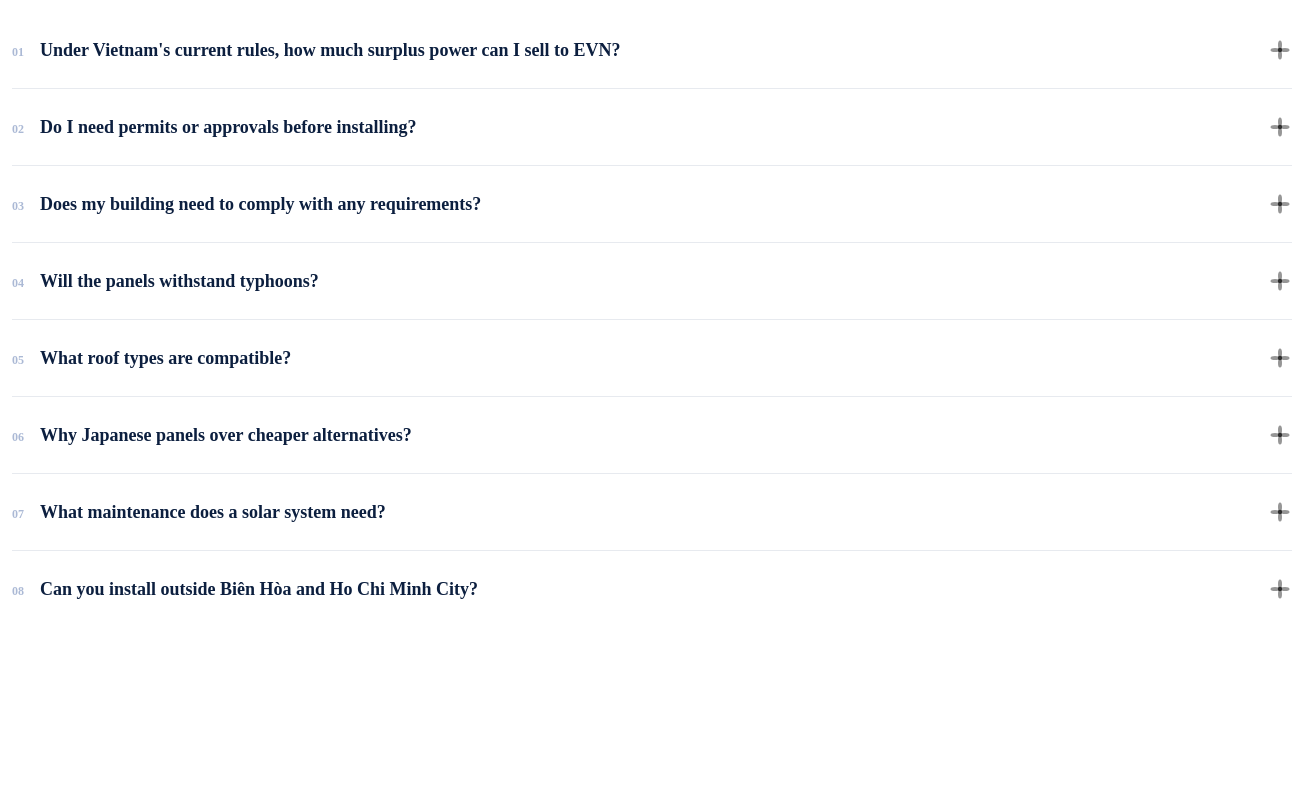
PricingFAQ › collapses the open question again on a second click
Click the 1st button at (330, 50), box [12, 12, 1292, 88]
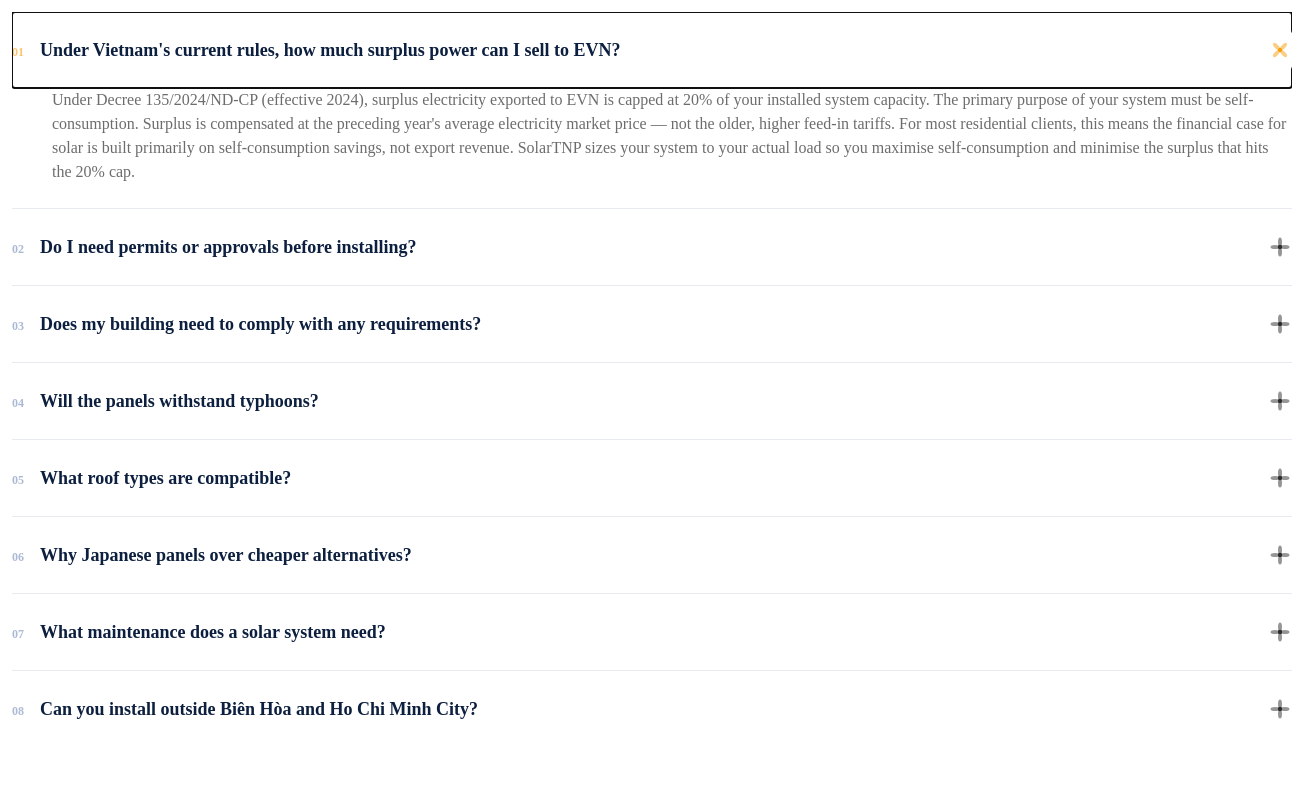
Click the 1st button at (330, 50), box [12, 12, 1292, 88]
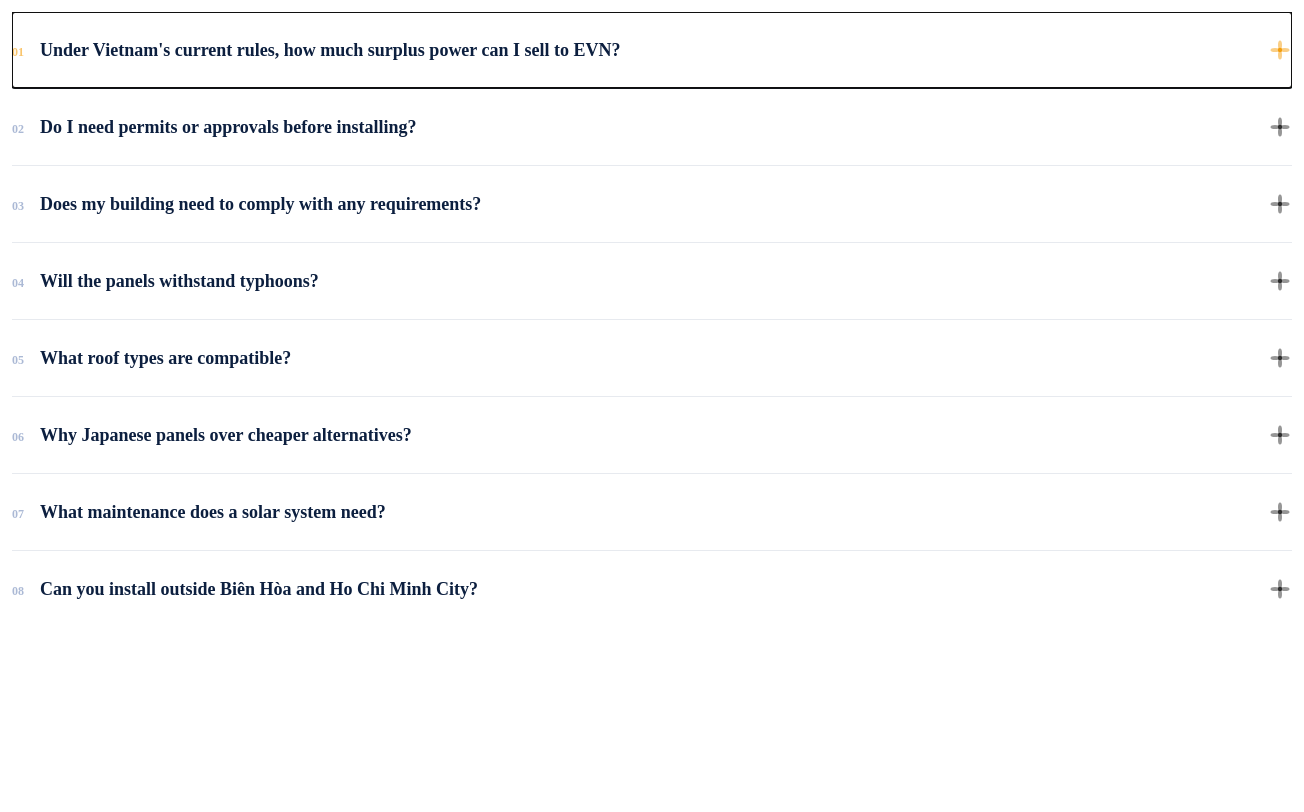
Expected: the 1st button is collapsed, [12, 12, 1292, 88]
